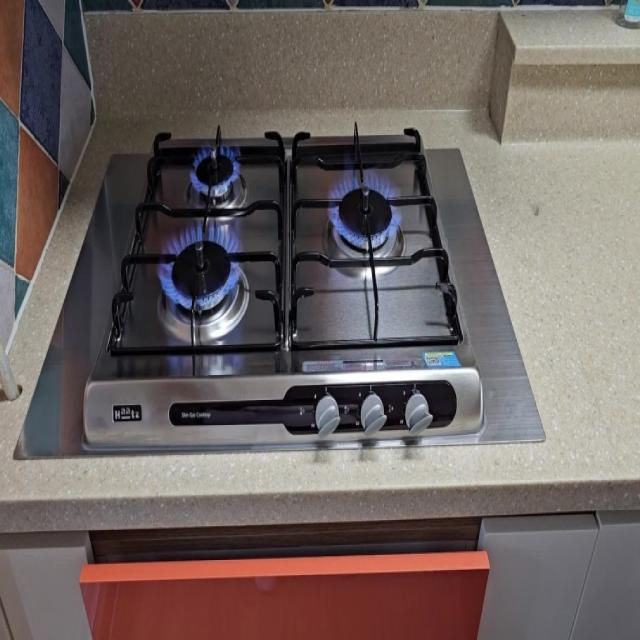knob_OFF: (137, 214, 283, 332), (294, 166, 441, 280), (145, 133, 280, 216)
